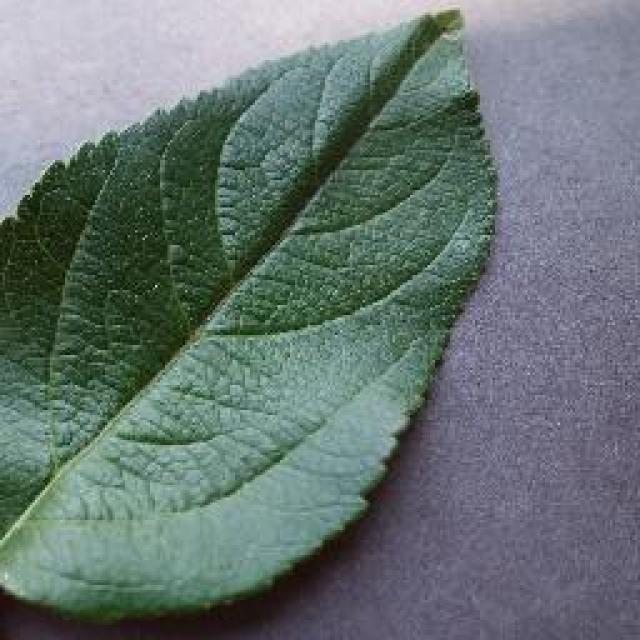apple healthy: (0, 2, 500, 622)
